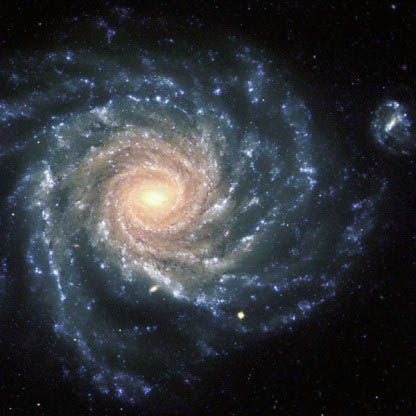NGC 1232: (14, 19, 408, 408)
